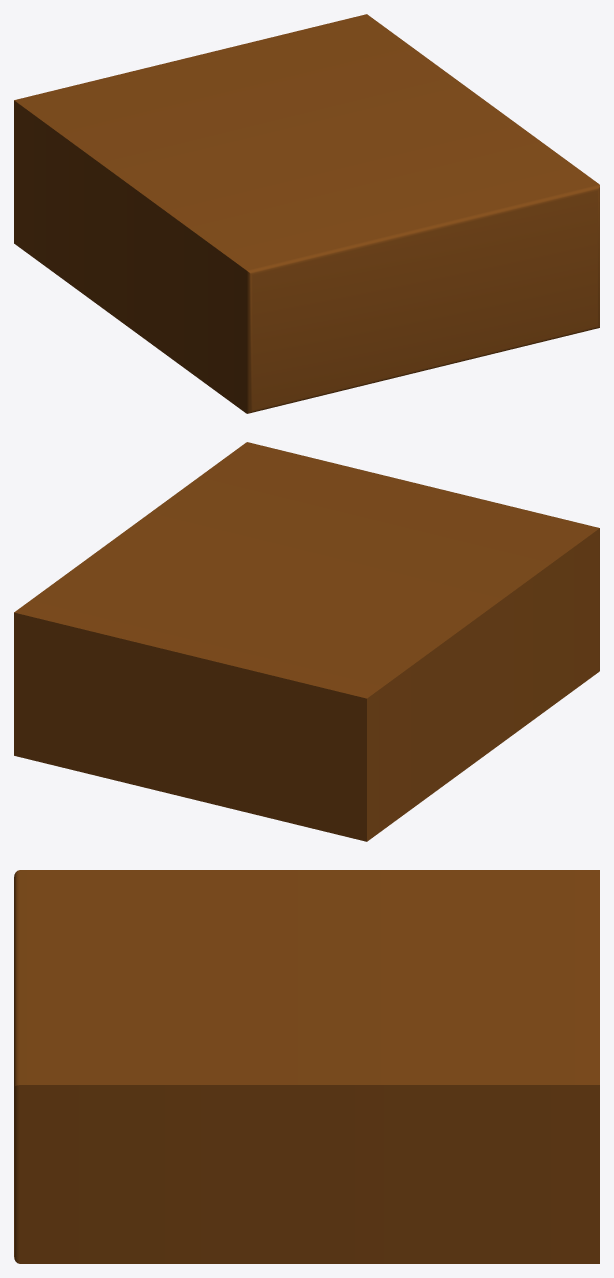
Rendered from laci.fbx.
3 views of the same model, one above another, from view 1: azimuth 30°, elevation 25°; view 2: azimuth 150°, elevation 25°; view 3: azimuth 270°, elevation 25° (orthographic). The views are drawn at different scales.
Visible parts, largest first — view 1: Cube.008; view 2: Cube.008; view 3: Cube.008.
Boxes of the visible parts, box(x1,y1,x2,y2) form: Cube.008: box(14, 14, 599, 413); Cube.008: box(14, 442, 599, 841); Cube.008: box(14, 870, 599, 1263).
Size of the model in its own units: 126 by 48.74 by 145.
